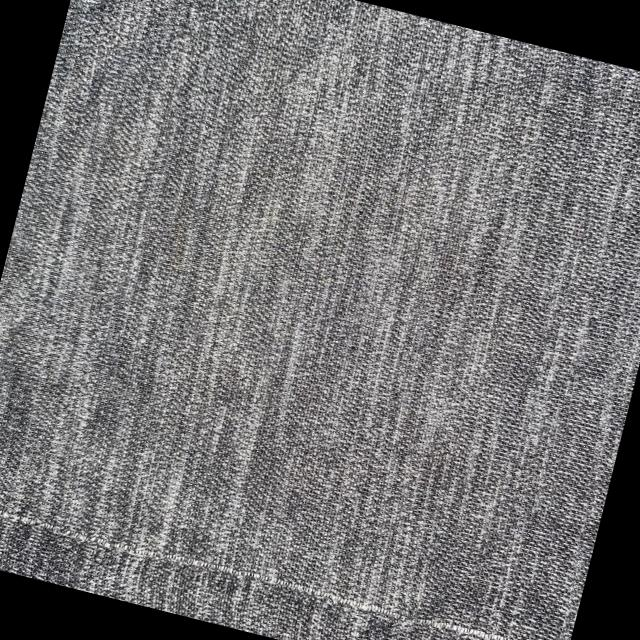Warp_Weft: (0, 489, 567, 640)
